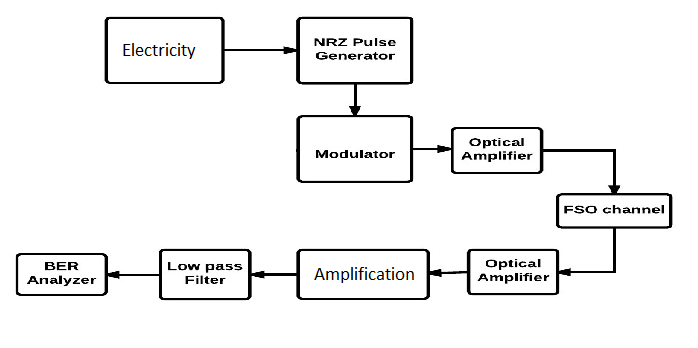arrow: (545, 146, 621, 194), (558, 228, 619, 276), (225, 45, 298, 57), (427, 264, 470, 278), (252, 267, 298, 280), (108, 269, 162, 280), (348, 84, 362, 115), (414, 144, 452, 153)
process: (102, 15, 227, 87), (293, 113, 416, 185), (295, 15, 414, 87), (295, 246, 432, 302), (156, 246, 255, 302), (448, 124, 547, 177), (464, 246, 562, 296), (555, 191, 675, 231), (14, 250, 111, 298)
text: (312, 35, 398, 65), (477, 257, 551, 285), (165, 260, 243, 286), (460, 137, 534, 163), (26, 260, 96, 287), (312, 265, 416, 282), (563, 203, 666, 218), (121, 42, 196, 62), (313, 146, 395, 160)
